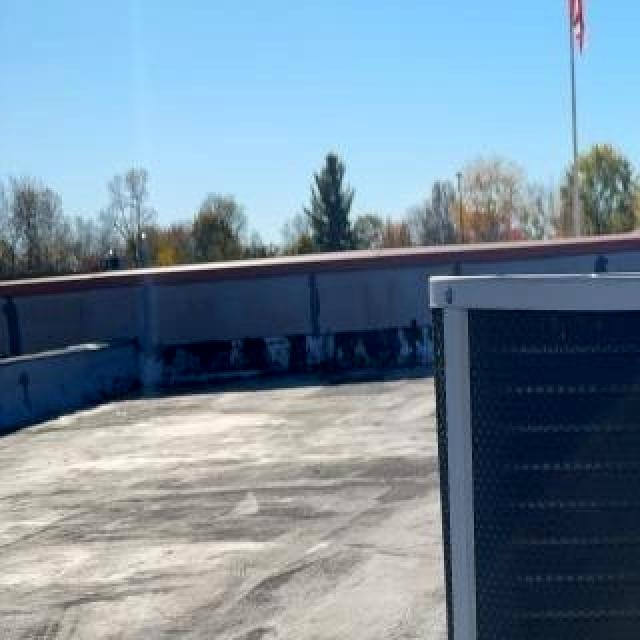SPLIT-SYSTEM: (418, 252, 640, 640)
